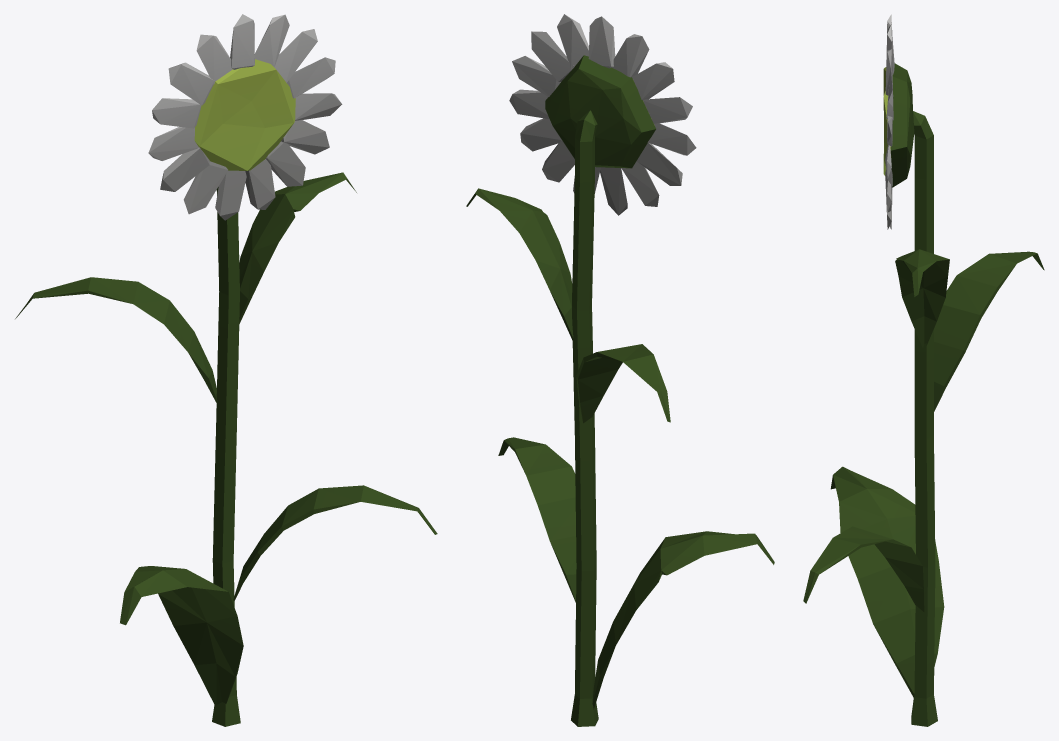
Rendered from Sunflower_01.fbx.
3 renders of one model, left to right at view 1: azimuth 30°, elevation 25°; view 2: azimuth 150°, elevation 25°; view 3: azimuth 270°, elevation 25°, orthographic. The views are drawn at different scales.
Parts seen in each view (by area): view 1: Sunflower_01; view 2: Sunflower_01; view 3: Sunflower_01.
Boxes of the visible parts, box(x1,y1,x2,y2) form: Sunflower_01: box(15, 14, 437, 726); Sunflower_01: box(466, 14, 774, 726); Sunflower_01: box(803, 14, 1044, 726).
Size of the model in its own units: 0.54 by 1.23 by 0.3861.
